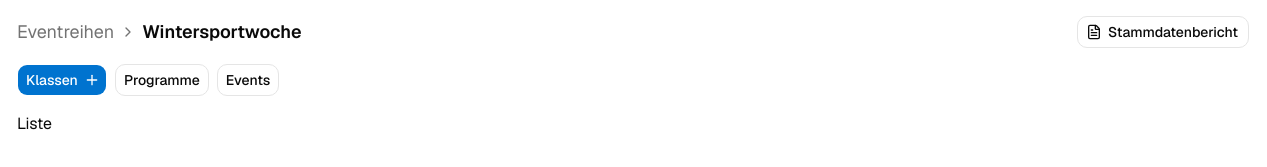
RecordScreen › the report › shows the report in place of what is edited, and the path either way
Expected: the element named "Bereiche" is shown, [17, 64, 279, 96]
Click the button "Stammdatenbericht": coordinates (1163, 32) [1077, 16, 1249, 48]
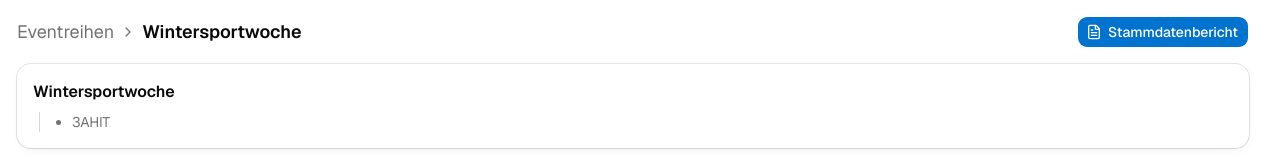
Expected: the element "Bereiche" is gone
Expected: the text "Liste" is gone
Expected: the list item "3AHIT" is shown, [72, 113, 110, 131]
